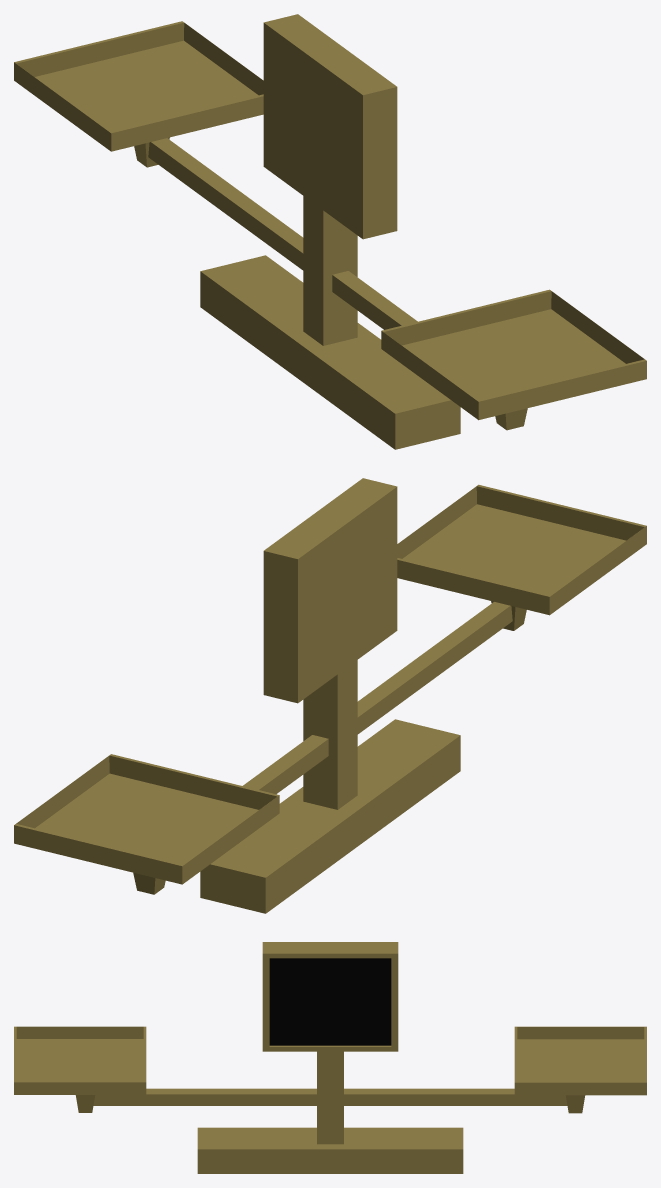
Rendered from Planeta7.fbx.
The picture shows the model from 3 angles, top to bottom: view 1: azimuth 30°, elevation 25°; view 2: azimuth 150°, elevation 25°; view 3: azimuth 270°, elevation 25°; orthographic projection. The views are drawn at different scales.
Visible parts, largest first — view 1: Pantalla, PlatoD.001, PlatoD, Barra; view 2: Pantalla, PlatoD, PlatoD.001, Barra; view 3: Pantalla, PlatoD, PlatoD.001, Barra.
Part boxes in pixels (x1,y1,x2,y2): Pantalla: (200,14,460,449); PlatoD.001: (381,289,646,430); PlatoD: (14,21,263,167); Barra: (148,138,417,329); Pantalla: (200,478,460,913); PlatoD: (14,754,279,894); PlatoD.001: (397,484,646,630); Barra: (243,602,512,794); Pantalla: (197,942,463,1173); PlatoD: (514,1026,646,1113); PlatoD.001: (14,1026,146,1112); Barra: (93,1088,567,1105).
Bounding box in the file's own units: 978 × 1753 × 4674.
